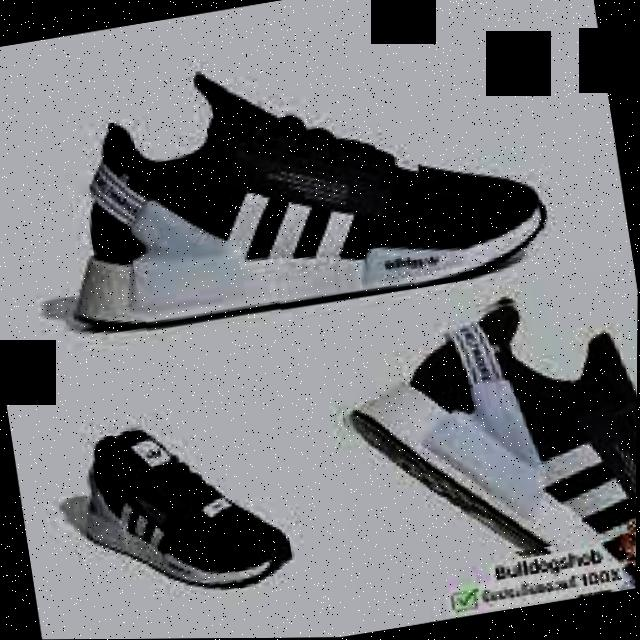shoe: (40, 19, 559, 345), (324, 277, 638, 578), (67, 396, 302, 616)
